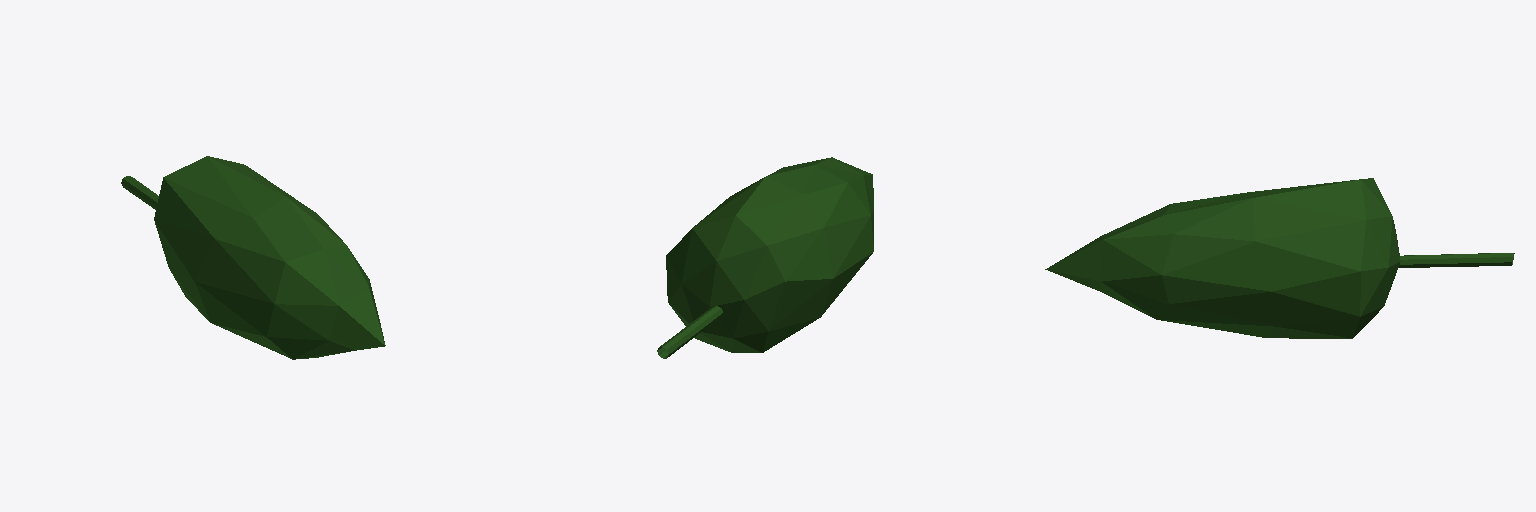
File: poplar3.obj
3 renders of one model, left to right at view 1: azimuth 30°, elevation 25°; view 2: azimuth 150°, elevation 25°; view 3: azimuth 270°, elevation 25°, orthographic.
Parts seen in each view (by area): view 1: Poplar3; view 2: Poplar3; view 3: Poplar3.
Boxes of the visible parts, x1,y1,x2,y2 form: Poplar3: [121, 156, 385, 359]; Poplar3: [657, 157, 873, 358]; Poplar3: [1045, 178, 1514, 338].
Bounding box in the file's own units: 2.38 × 2.6 × 7.64.